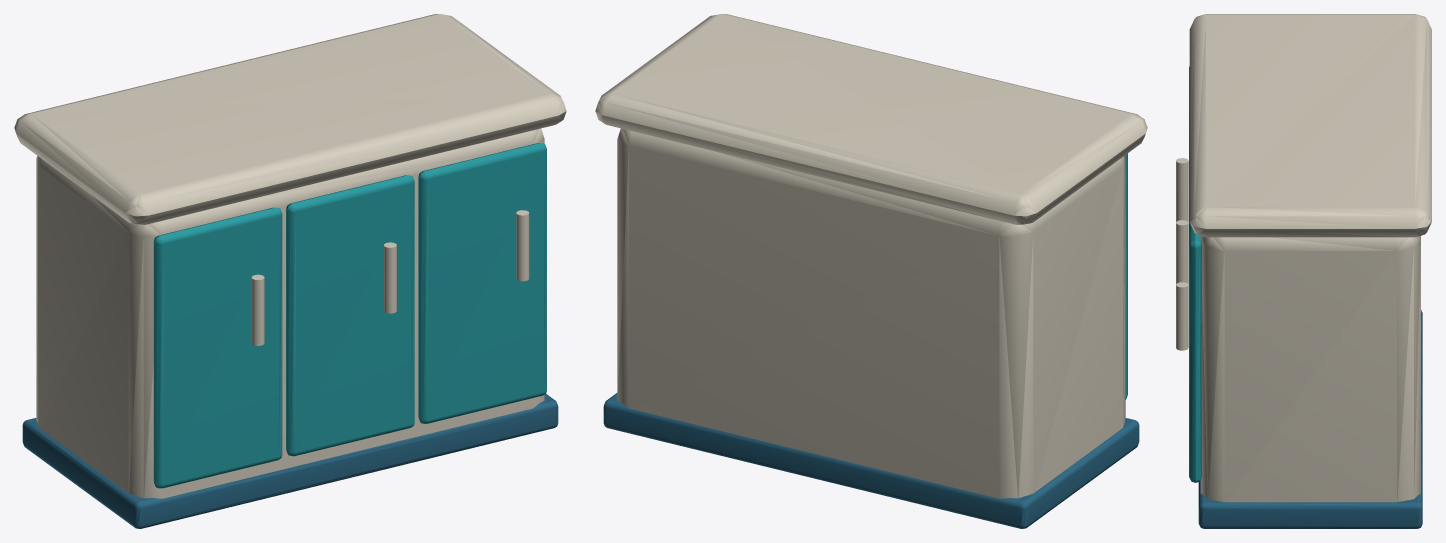
File: 11_standard_coffee_counter.glb
The picture shows the model from 3 angles, left to right: view 1: azimuth 30°, elevation 25°; view 2: azimuth 150°, elevation 25°; view 3: azimuth 270°, elevation 25°; orthographic projection. The views are drawn at different scales.
Parts seen in each view (by area): view 1: 11_standard_coffee_counter__Static; view 2: 11_standard_coffee_counter__Static; view 3: 11_standard_coffee_counter__Static.
Part boxes in pixels (<box>): 11_standard_coffee_counter__Static: <box>14,14,566,528</box>; 11_standard_coffee_counter__Static: <box>595,14,1147,528</box>; 11_standard_coffee_counter__Static: <box>1176,14,1431,528</box>.
Size of the model in its own units: 1.33 by 0.965 by 0.697.
